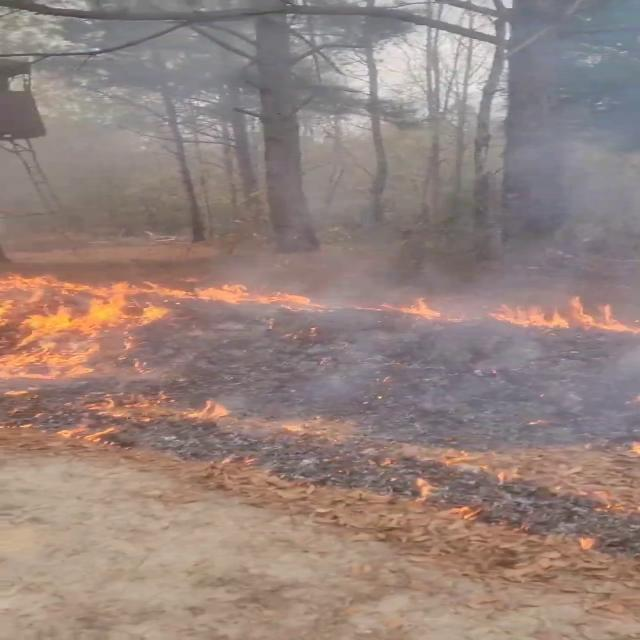Fire: (0, 265, 175, 409), (1, 268, 324, 313), (372, 286, 639, 334)
Smoke: (6, 0, 640, 268)
